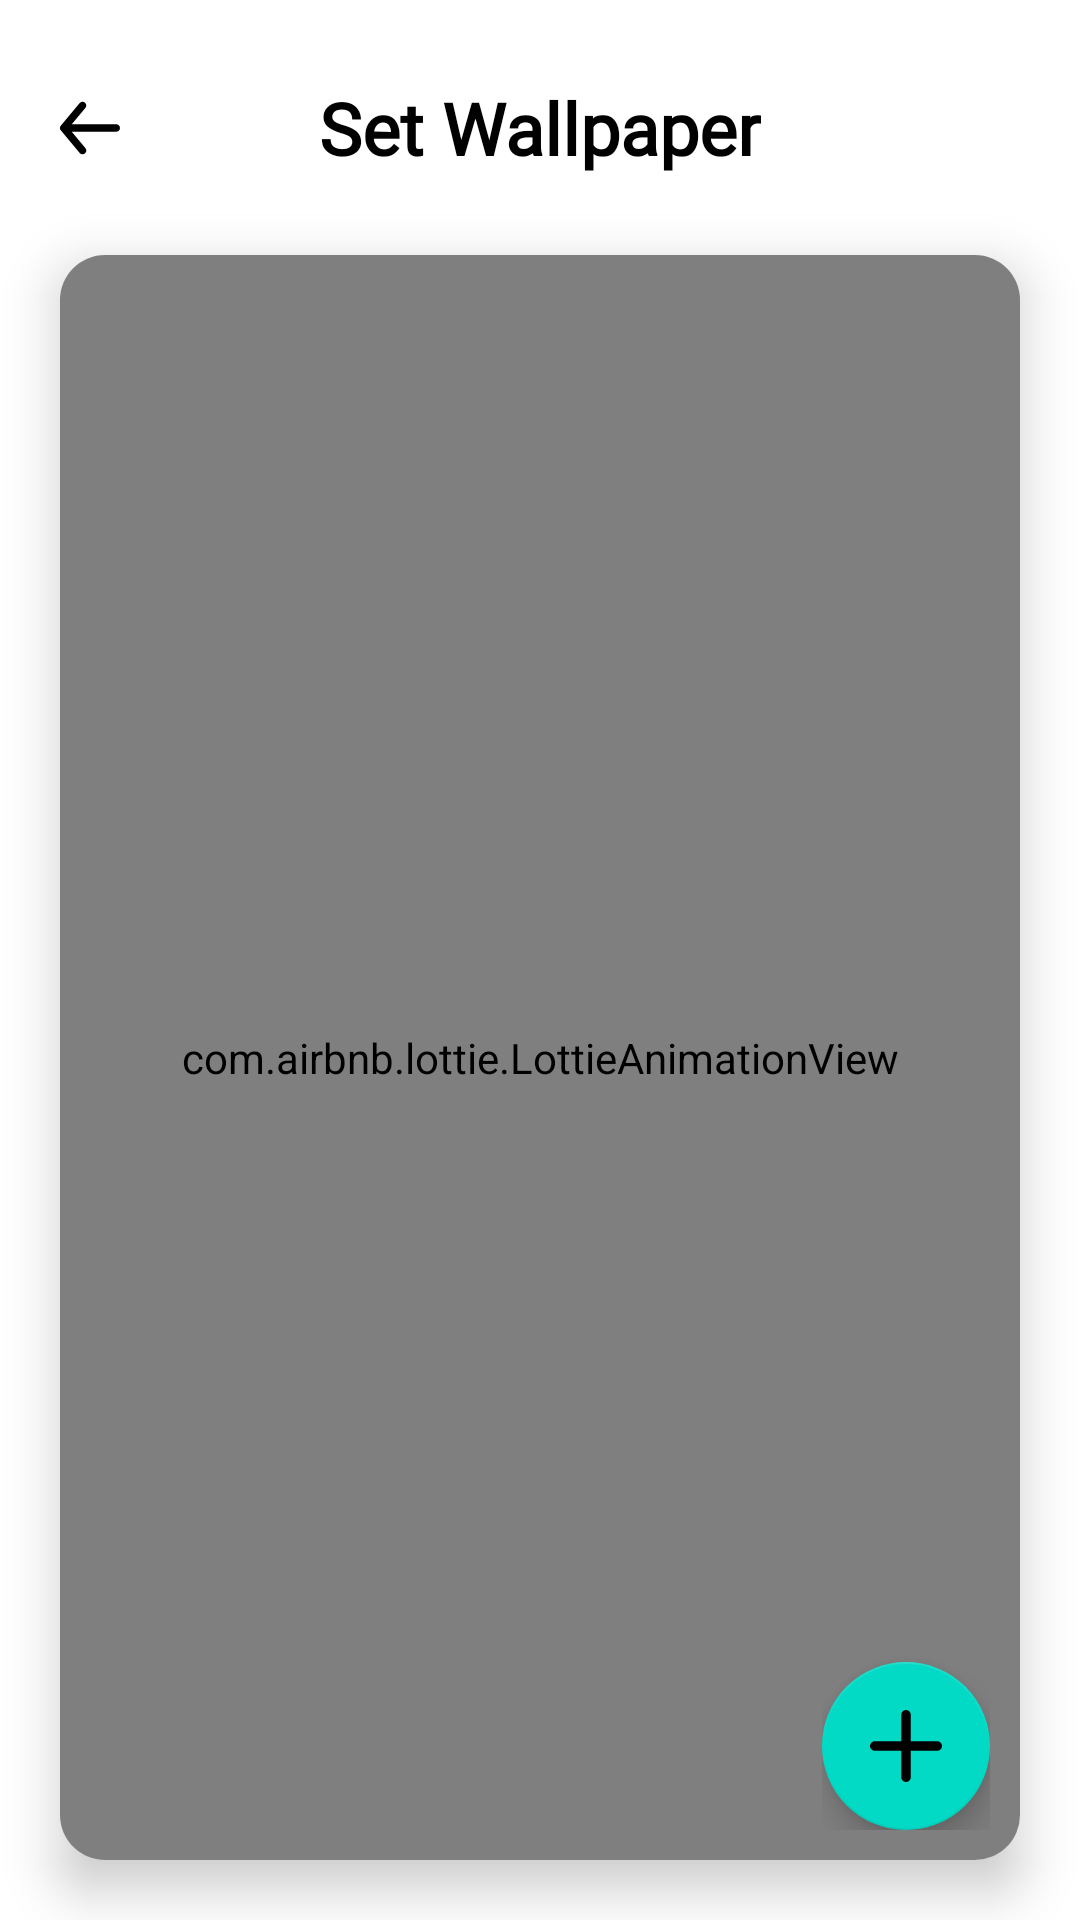

Point at icon controls on the screen. Image size 1080×1920, points as point (x, y).
arrow back: point (90, 128)
